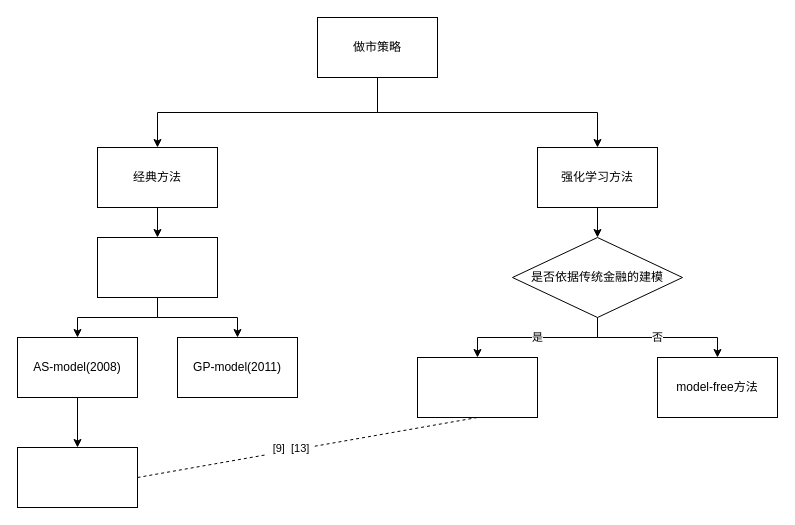
Some shapes in this 795 by 525 pixel diagram are drawn without their labels. Here are the shapes that lost their labels. From the top down, the centre of each, then its label:
[157,267]: 随机最优控制建模
[477,387]: model-based方法
[77,477]: 逆向选择风险没有表示，库存风险表示过弱
